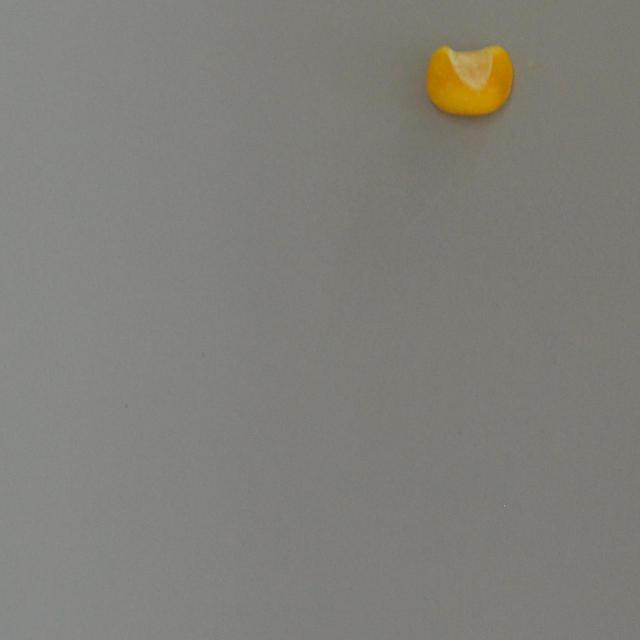no_canjicado: (422, 37, 518, 126)
